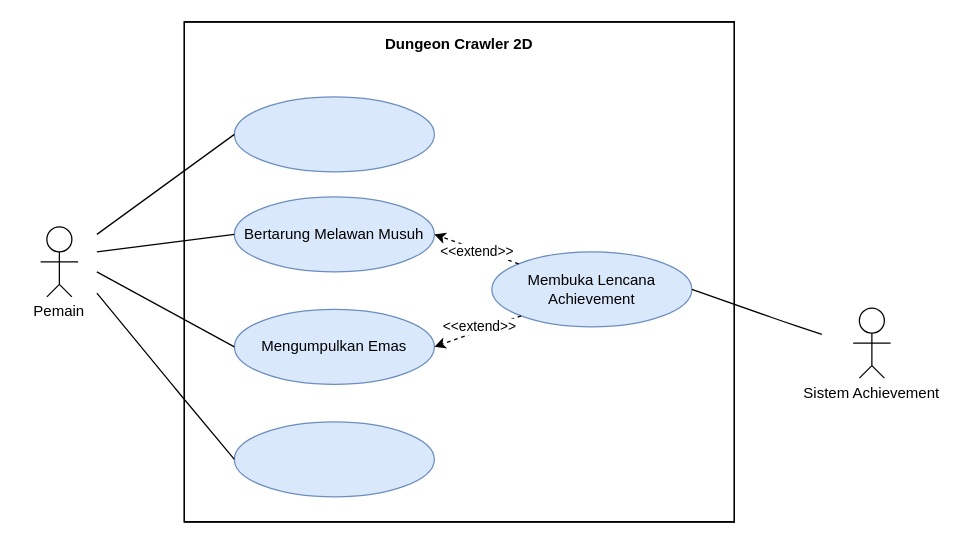
Some shapes in this 974 by 544 pixel diagram are drawn without their labels. The centre of each missing label's shape, as x and y in pixels:
Menejelajahi Dungeon: (x=333, y=134)
Menyimpan Progres Permainan: (x=333, y=459)
